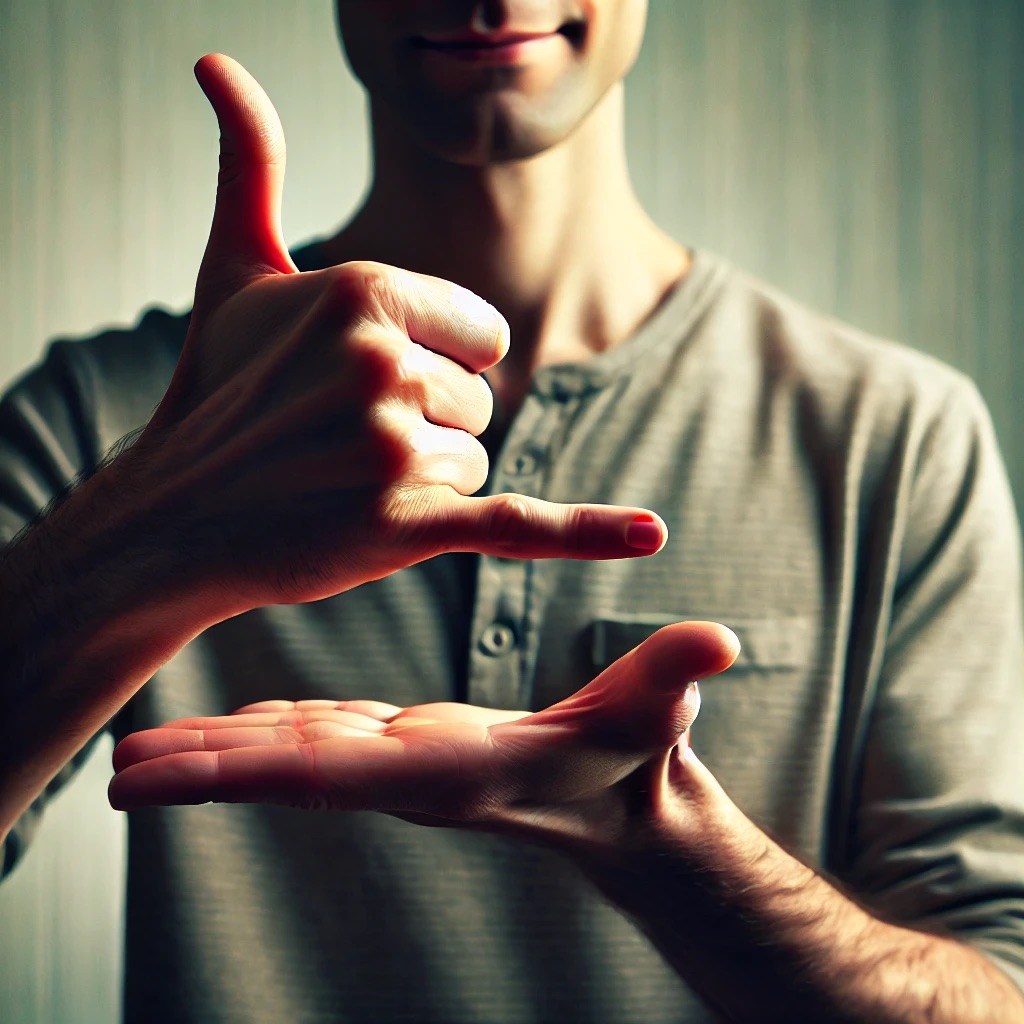joke: (124, 45, 744, 857)
